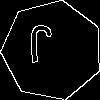J: (27, 25, 54, 72)
